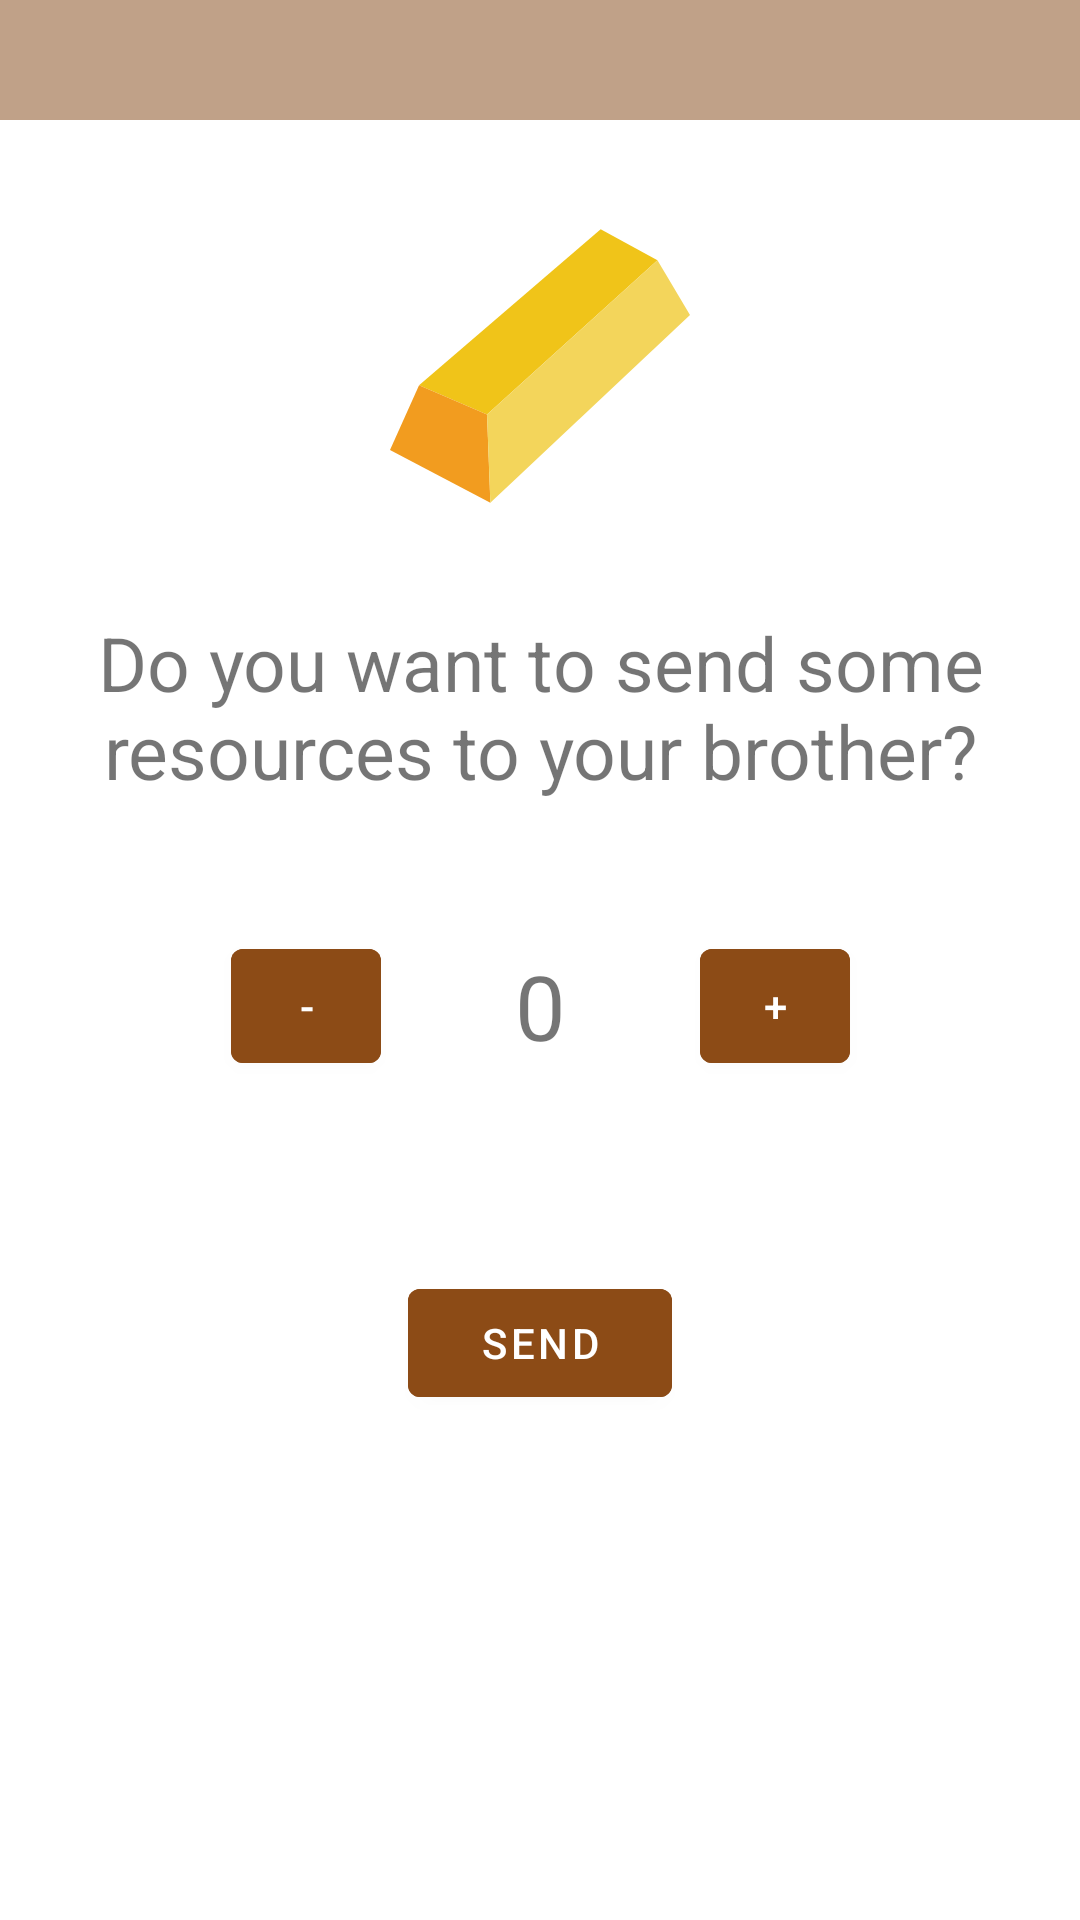

Point at icon controls on the screen. Image size 1080x1920, points as (x,y).
ingot: (540,366)
